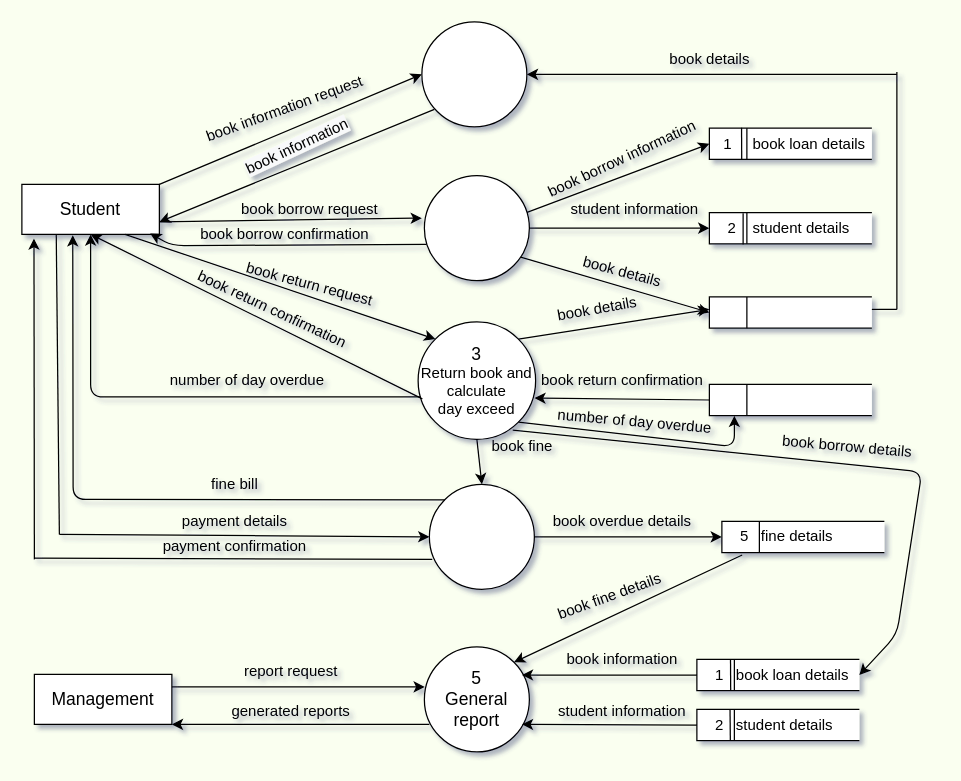
The diagram is 961 pixels wide and 781 high, and some of its shapes have lost their labels. The centre of each missing label's shape, as x and y in pixels:
"1 Search book information" goes at pixel 474 74.
"2 Borrow book" goes at pixel 476 227.
"3 book information" goes at pixel 790 312.
"4 book return details" goes at pixel 790 399.
"4 Calculate fine" goes at pixel 481 536.
